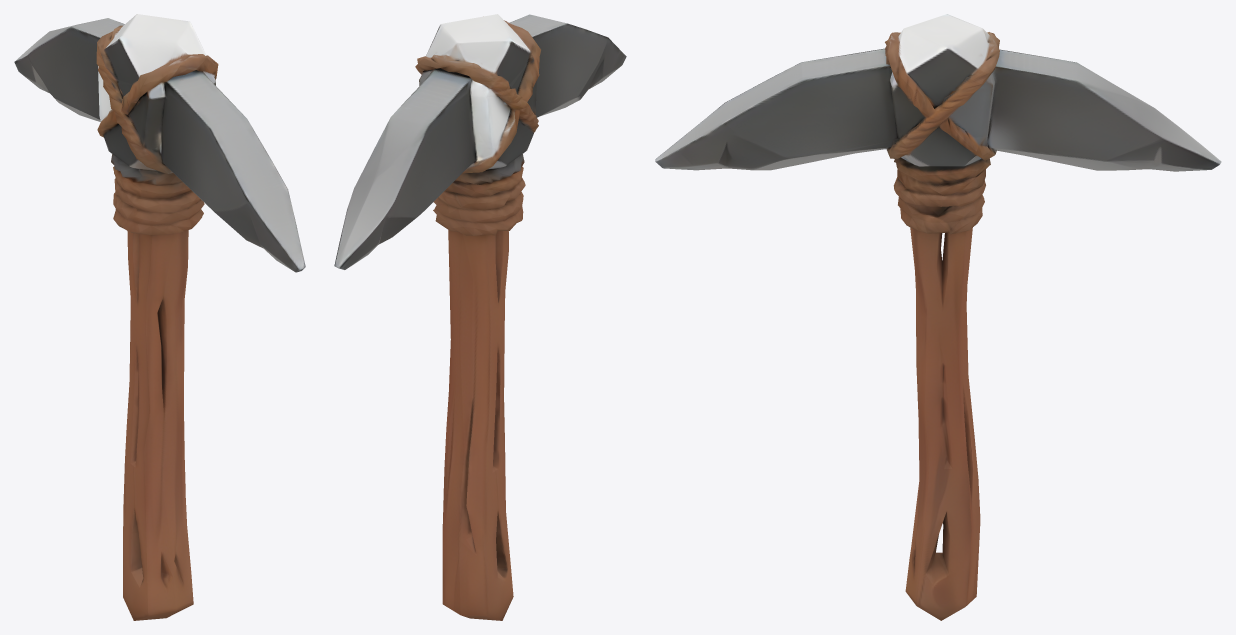
File: base_basic_shaded.fbx
3 views of the same model, side by side, from view 1: azimuth 30°, elevation 25°; view 2: azimuth 150°, elevation 25°; view 3: azimuth 270°, elevation 25° (orthographic).
Visible parts, largest first — view 1: model; view 2: model; view 3: model.
Boxes of the visible parts, left/top/right/bottom form: model: left=14, top=14, right=305, bottom=620; model: left=334, top=14, right=626, bottom=620; model: left=655, top=14, right=1221, bottom=620.
Size of the model in its own units: 29.83 by 181 by 159.
